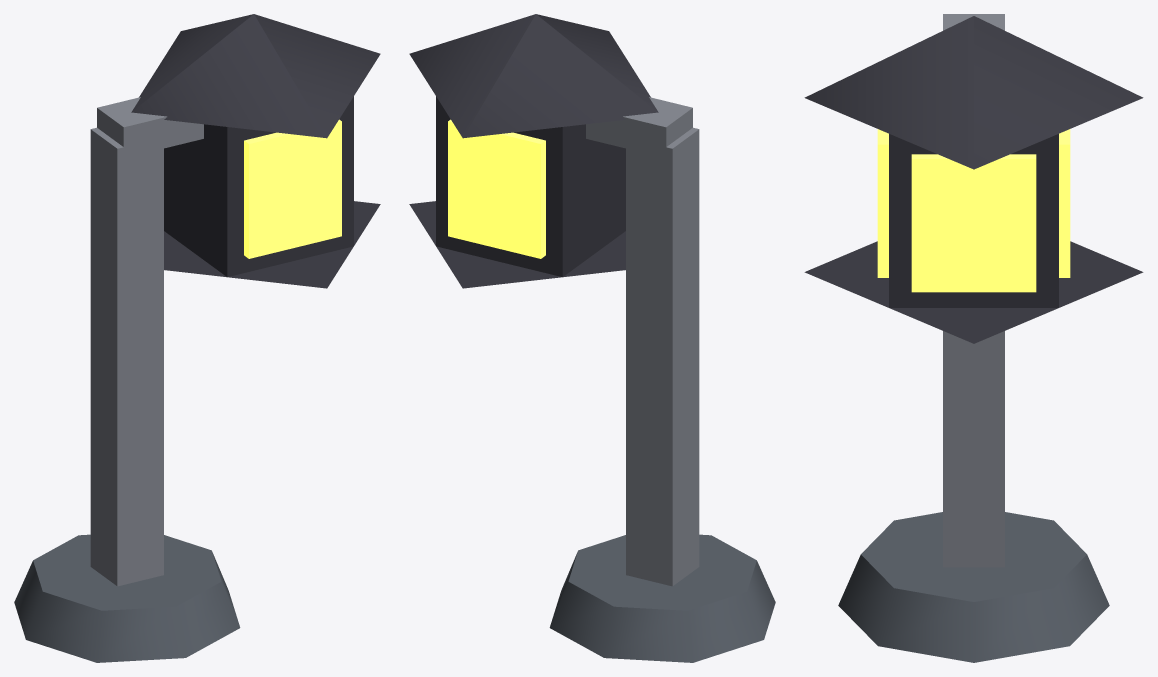
File: scene__lamp.glb
3 views of the same model, side by side, from view 1: azimuth 30°, elevation 25°; view 2: azimuth 150°, elevation 25°; view 3: azimuth 270°, elevation 25° (orthographic). The views are drawn at different scales.
Size of the model in its own units: 0.84 by 1.29 by 0.6.
